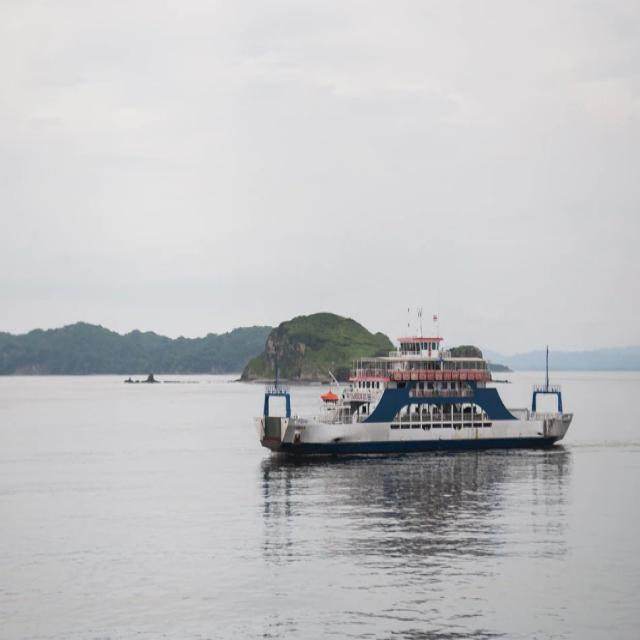passenger ship: (255, 300, 583, 459)
